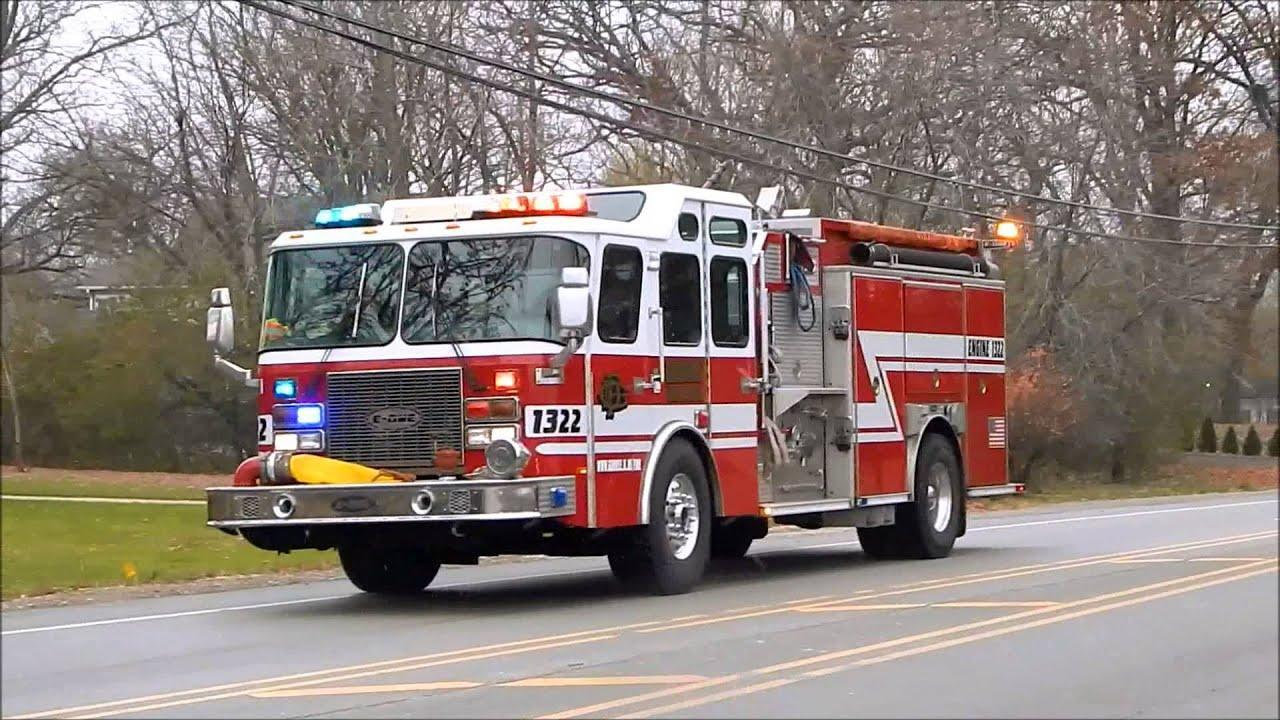Fire-engine: (205, 185, 1020, 597)
